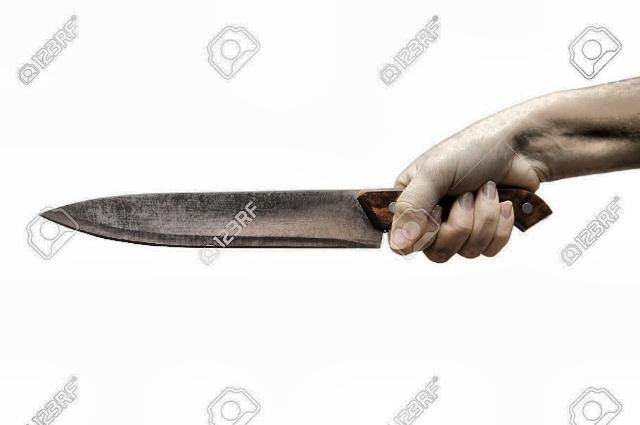knife: (31, 142, 512, 272)
